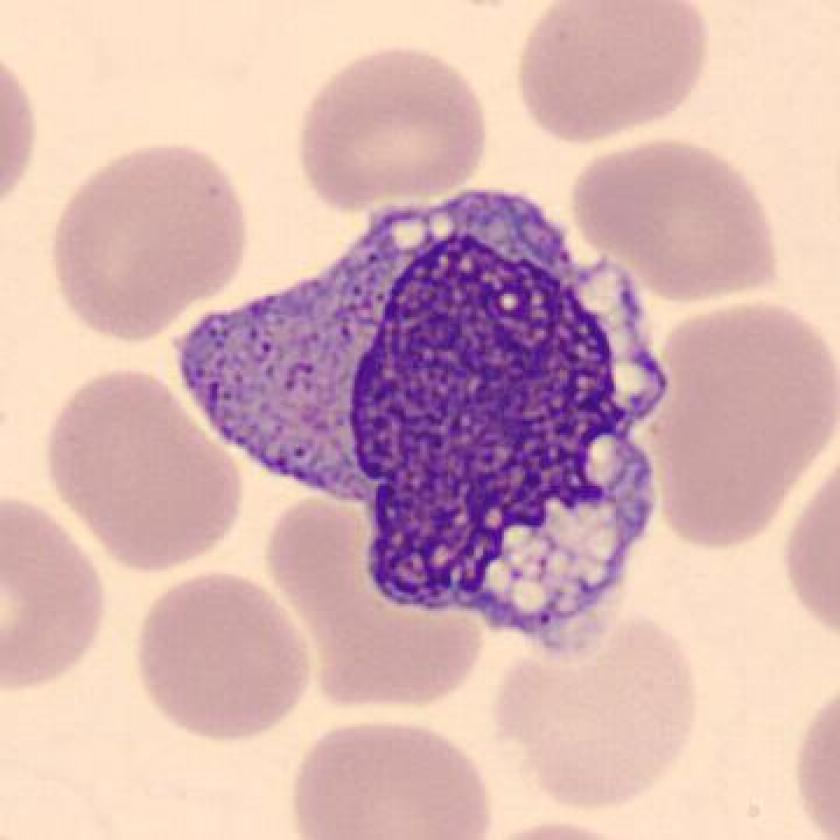monocyte: (148, 163, 687, 674)
